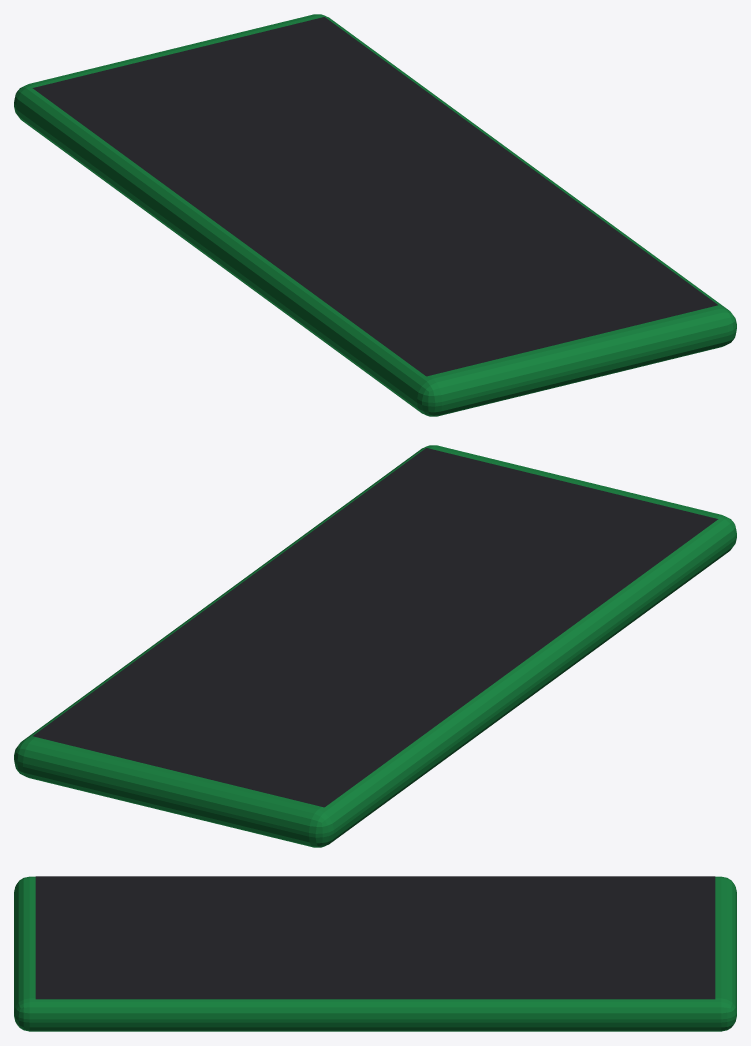
Rendered from Phone_681.glb.
3 views of the same model, one above another, from view 1: azimuth 30°, elevation 25°; view 2: azimuth 150°, elevation 25°; view 3: azimuth 270°, elevation 25° (orthographic). The views are drawn at different scales.
Visible parts, largest first — view 1: Phone_Screen, Phone_Body; view 2: Phone_Screen, Phone_Body; view 3: Phone_Screen, Phone_Body.
Boxes of the visible parts, left/top/right/bottom form: Phone_Screen: left=32, top=17, right=717, bottom=376; Phone_Body: left=14, top=14, right=736, bottom=416; Phone_Screen: left=33, top=448, right=718, bottom=807; Phone_Body: left=14, top=445, right=736, bottom=847; Phone_Screen: left=35, top=876, right=715, bottom=999; Phone_Body: left=14, top=876, right=736, bottom=1031.
Size of the model in its own units: 0.0742 by 0.0083 by 0.1696.
